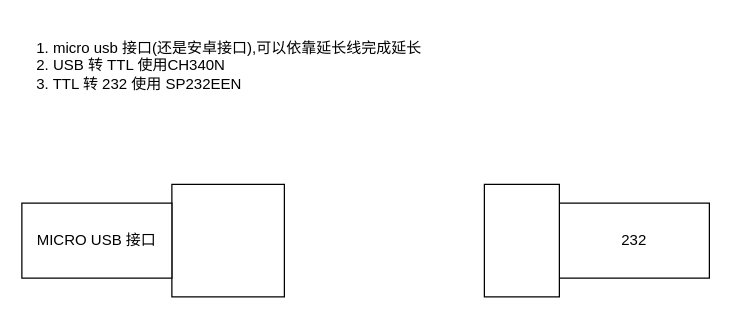
Some shapes in this 731 by 319 pixel diagram are drawn without their labels. Here are the shapes that lost their labels. From the top down, the centre of each, then its label:
At pixel 227 240: "CH340N".
At pixel 521 240: "MAX232".
